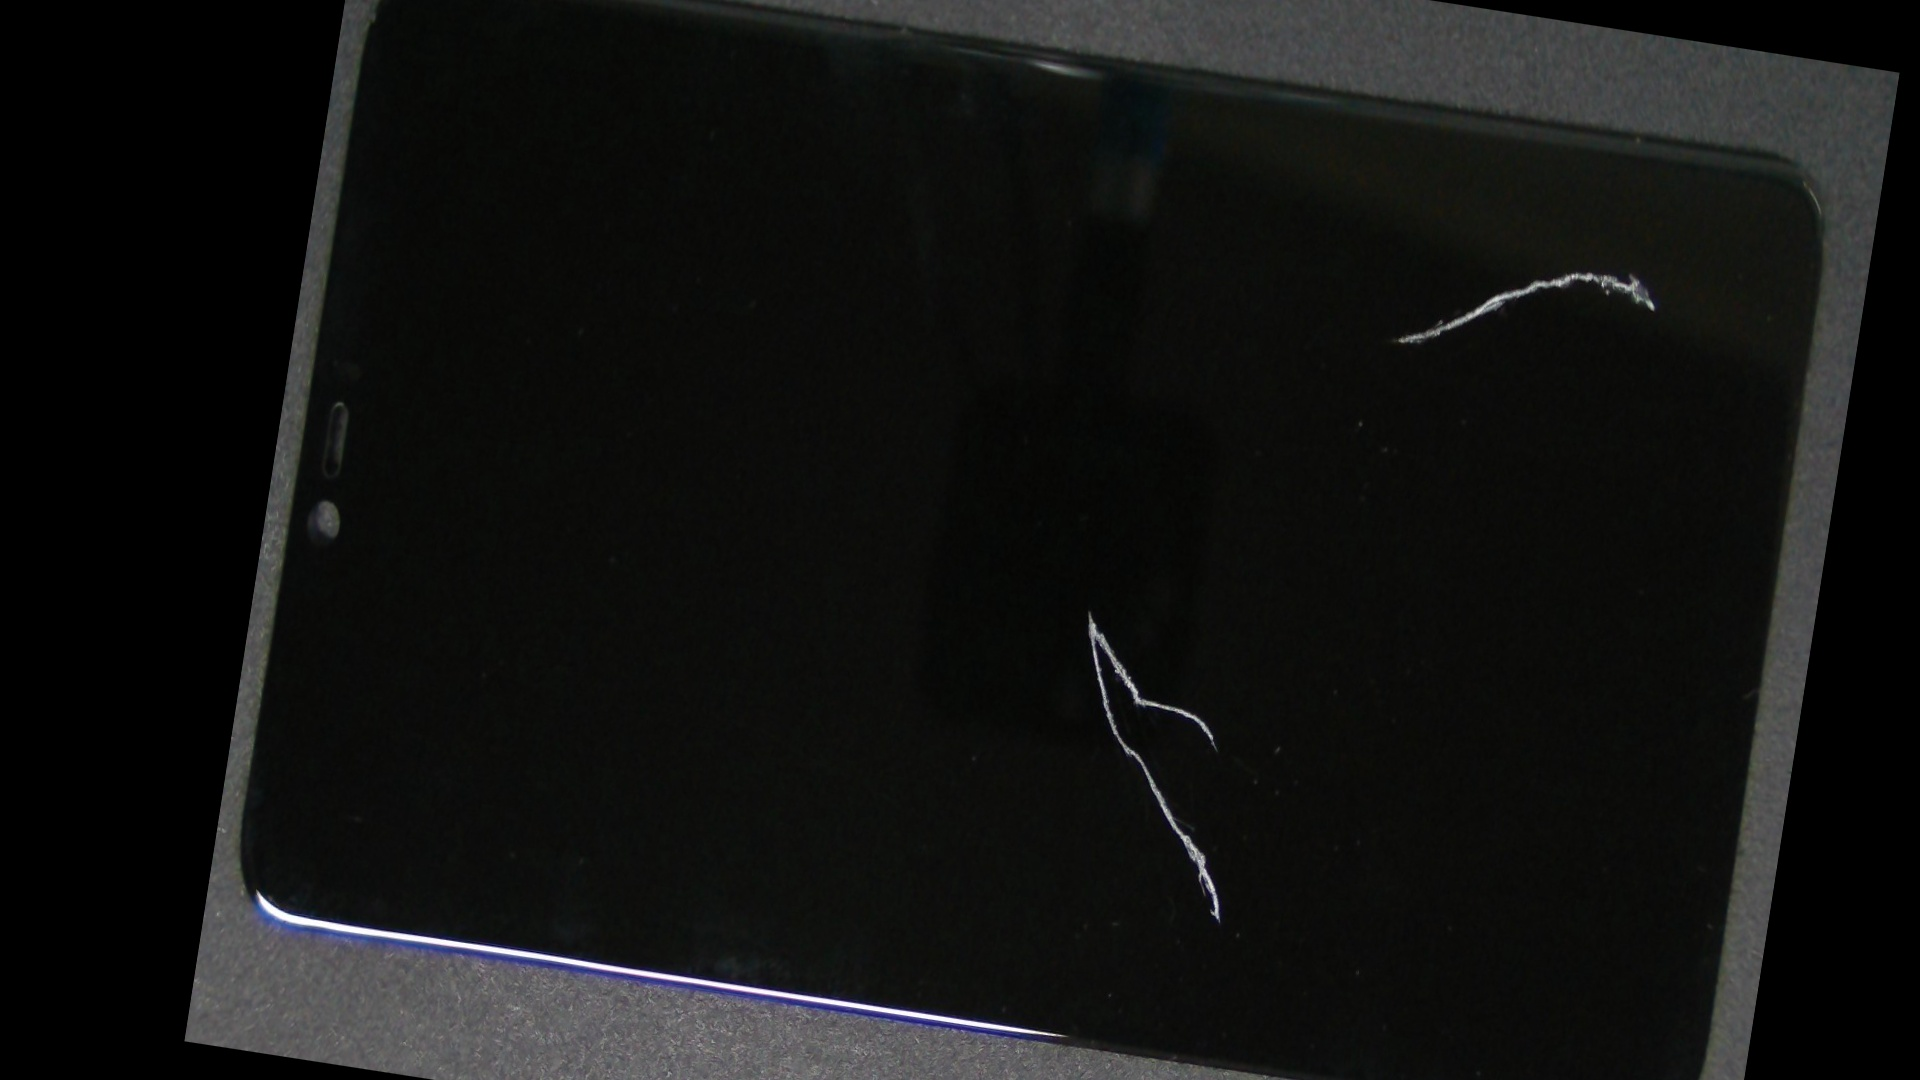oil: (629, 220, 1548, 1000), (963, 54, 1882, 429)
